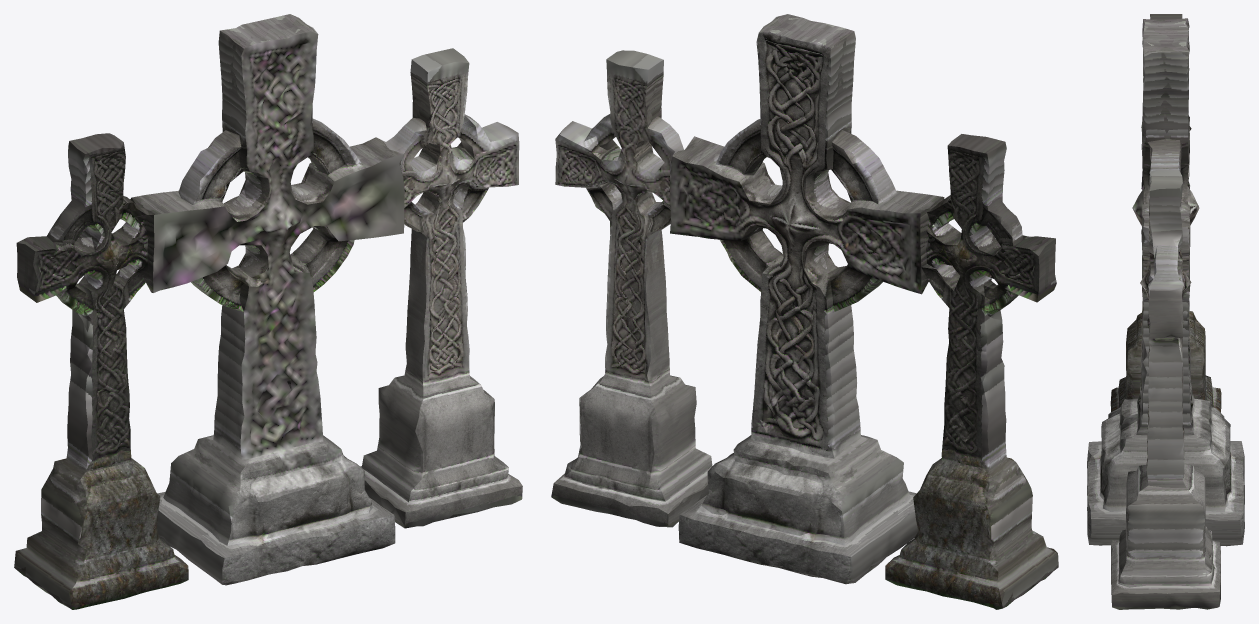
File: celtic_cross.glb
3 renders of one model, left to right at view 1: azimuth 30°, elevation 25°; view 2: azimuth 150°, elevation 25°; view 3: azimuth 270°, elevation 25°, orthographic. The views are drawn at different scales.
Parts seen in each view (by area): view 1: geometry_0; view 2: geometry_0; view 3: geometry_0.
Part boxes in pixels (x1,y1,x2,y2): geometry_0: (14, 14, 522, 609); geometry_0: (551, 14, 1058, 609); geometry_0: (1087, 14, 1244, 609).
Size of the model in its own units: 2.2 by 2.2 by 0.6622.
Materials: 1 (1 with a texture image).
